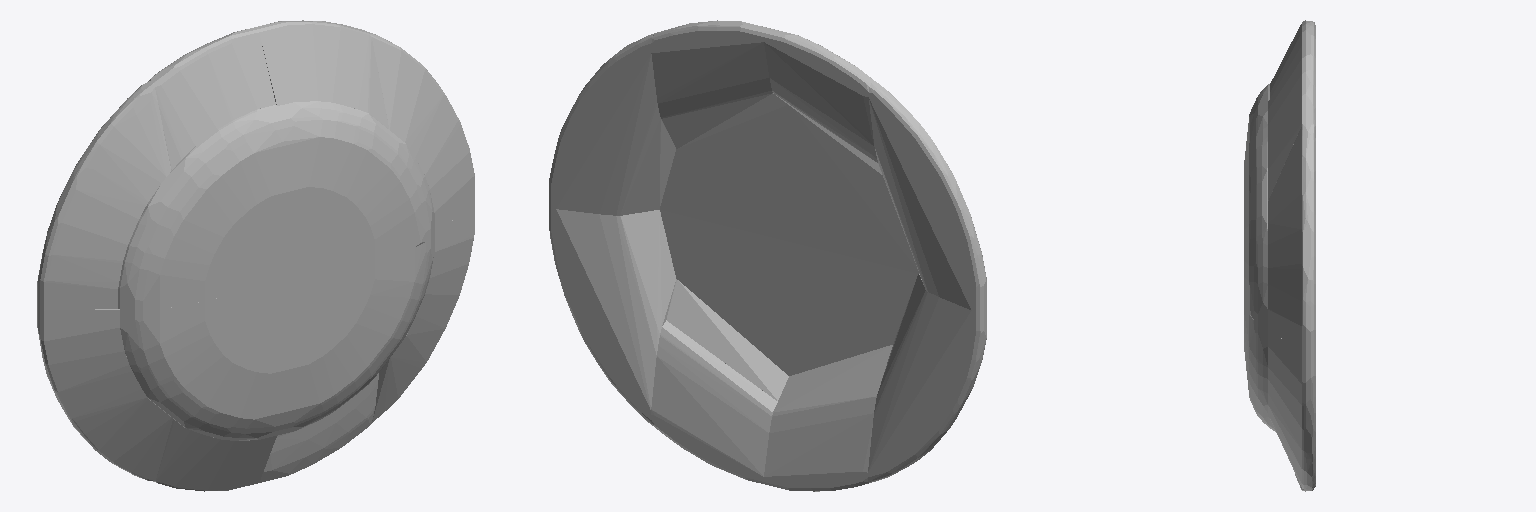
URDF robot description (root):
<robot name="root">
  <link name="link_coacd_convex_piece_0">
    <inertial>
      <origin xyz="0 0 0" rpy="0 0 0"/>
      <inertia ixx="2.80E-03" ixy="-2.40E-06" ixz="8.39E-07" iyy="2.80E-03" iyz="6.03E-04" izz="5.15E-03"/>
    </inertial>
    <visual>
      <origin xyz="0 0 0" rpy="0 0 0"/>
      <geometry>
        <mesh filename="coacd_convex_piece_0.obj" scale="1.0000E+00 1.0000E+00 1.0000E+00"/>
      </geometry>
      <material name="">
        <color rgba="7.50E-01 7.50E-01 7.50E-01 1"/>
      </material>
    </visual>
    <collision>
      <origin xyz="0 0 0" rpy="0 0 0"/>
      <geometry>
        <mesh filename="coacd_convex_piece_0.obj" scale="1.0000E+00 1.0000E+00 1.0000E+00"/>
      </geometry>
    </collision>
  </link>
  <link name="link_coacd_convex_piece_1">
    <inertial>
      <origin xyz="0 0 0" rpy="0 0 0"/>
      <inertia ixx="9.99E-04" ixy="-4.38E-04" ixz="9.47E-06" iyy="2.81E-04" iyz="1.79E-05" izz="1.28E-03"/>
    </inertial>
    <visual>
      <origin xyz="0 0 0" rpy="0 0 0"/>
      <geometry>
        <mesh filename="coacd_convex_piece_1.obj" scale="1.0000E+00 1.0000E+00 1.0000E+00"/>
      </geometry>
      <material name="">
        <color rgba="7.50E-01 7.50E-01 7.50E-01 1"/>
      </material>
    </visual>
    <collision>
      <origin xyz="0 0 0" rpy="0 0 0"/>
      <geometry>
        <mesh filename="coacd_convex_piece_1.obj" scale="1.0000E+00 1.0000E+00 1.0000E+00"/>
      </geometry>
    </collision>
  </link>
  <joint name="link_coacd_convex_piece_1_joint" type="fixed">
    <origin xyz="0 0 0" rpy="0 0 0"/>
    <parent link="link_coacd_convex_piece_0"/>
    <child link="link_coacd_convex_piece_1"/>
  </joint>
  <link name="link_coacd_convex_piece_2">
    <inertial>
      <origin xyz="0 0 0" rpy="0 0 0"/>
      <inertia ixx="3.07E-03" ixy="-7.25E-05" ixz="-1.22E-05" iyy="3.03E-03" iyz="-6.31E-04" izz="5.63E-03"/>
    </inertial>
    <visual>
      <origin xyz="0 0 0" rpy="0 0 0"/>
      <geometry>
        <mesh filename="coacd_convex_piece_2.obj" scale="1.0000E+00 1.0000E+00 1.0000E+00"/>
      </geometry>
      <material name="">
        <color rgba="7.50E-01 7.50E-01 7.50E-01 1"/>
      </material>
    </visual>
    <collision>
      <origin xyz="0 0 0" rpy="0 0 0"/>
      <geometry>
        <mesh filename="coacd_convex_piece_2.obj" scale="1.0000E+00 1.0000E+00 1.0000E+00"/>
      </geometry>
    </collision>
  </link>
  <joint name="link_coacd_convex_piece_2_joint" type="fixed">
    <origin xyz="0 0 0" rpy="0 0 0"/>
    <parent link="link_coacd_convex_piece_1"/>
    <child link="link_coacd_convex_piece_2"/>
  </joint>
  <link name="link_coacd_convex_piece_3">
    <inertial>
      <origin xyz="0 0 0" rpy="0 0 0"/>
      <inertia ixx="3.32E-03" ixy="-1.09E-03" ixz="-1.28E-04" iyy="5.62E-04" iyz="-3.73E-04" izz="3.79E-03"/>
    </inertial>
    <visual>
      <origin xyz="0 0 0" rpy="0 0 0"/>
      <geometry>
        <mesh filename="coacd_convex_piece_3.obj" scale="1.0000E+00 1.0000E+00 1.0000E+00"/>
      </geometry>
      <material name="">
        <color rgba="7.50E-01 7.50E-01 7.50E-01 1"/>
      </material>
    </visual>
    <collision>
      <origin xyz="0 0 0" rpy="0 0 0"/>
      <geometry>
        <mesh filename="coacd_convex_piece_3.obj" scale="1.0000E+00 1.0000E+00 1.0000E+00"/>
      </geometry>
    </collision>
  </link>
  <joint name="link_coacd_convex_piece_3_joint" type="fixed">
    <origin xyz="0 0 0" rpy="0 0 0"/>
    <parent link="link_coacd_convex_piece_2"/>
    <child link="link_coacd_convex_piece_3"/>
  </joint>
  <link name="link_coacd_convex_piece_4">
    <inertial>
      <origin xyz="0 0 0" rpy="0 0 0"/>
      <inertia ixx="1.81E-03" ixy="-2.59E-03" ixz="-5.48E-04" iyy="5.92E-03" iyz="-2.82E-04" izz="7.58E-03"/>
    </inertial>
    <visual>
      <origin xyz="0 0 0" rpy="0 0 0"/>
      <geometry>
        <mesh filename="coacd_convex_piece_4.obj" scale="1.0000E+00 1.0000E+00 1.0000E+00"/>
      </geometry>
      <material name="">
        <color rgba="7.50E-01 7.50E-01 7.50E-01 1"/>
      </material>
    </visual>
    <collision>
      <origin xyz="0 0 0" rpy="0 0 0"/>
      <geometry>
        <mesh filename="coacd_convex_piece_4.obj" scale="1.0000E+00 1.0000E+00 1.0000E+00"/>
      </geometry>
    </collision>
  </link>
  <joint name="link_coacd_convex_piece_4_joint" type="fixed">
    <origin xyz="0 0 0" rpy="0 0 0"/>
    <parent link="link_coacd_convex_piece_3"/>
    <child link="link_coacd_convex_piece_4"/>
  </joint>
  <link name="link_coacd_convex_piece_5">
    <inertial>
      <origin xyz="0 0 0" rpy="0 0 0"/>
      <inertia ixx="4.63E-03" ixy="1.48E-03" ixz="1.02E-04" iyy="7.28E-04" iyz="-3.37E-04" izz="5.27E-03"/>
    </inertial>
    <visual>
      <origin xyz="0 0 0" rpy="0 0 0"/>
      <geometry>
        <mesh filename="coacd_convex_piece_5.obj" scale="1.0000E+00 1.0000E+00 1.0000E+00"/>
      </geometry>
      <material name="">
        <color rgba="7.50E-01 7.50E-01 7.50E-01 1"/>
      </material>
    </visual>
    <collision>
      <origin xyz="0 0 0" rpy="0 0 0"/>
      <geometry>
        <mesh filename="coacd_convex_piece_5.obj" scale="1.0000E+00 1.0000E+00 1.0000E+00"/>
      </geometry>
    </collision>
  </link>
  <joint name="link_coacd_convex_piece_5_joint" type="fixed">
    <origin xyz="0 0 0" rpy="0 0 0"/>
    <parent link="link_coacd_convex_piece_4"/>
    <child link="link_coacd_convex_piece_5"/>
  </joint>
  <link name="link_coacd_convex_piece_6">
    <inertial>
      <origin xyz="0 0 0" rpy="0 0 0"/>
      <inertia ixx="2.15E-03" ixy="2.87E-03" ixz="5.78E-04" iyy="6.21E-03" iyz="-3.16E-04" izz="8.19E-03"/>
    </inertial>
    <visual>
      <origin xyz="0 0 0" rpy="0 0 0"/>
      <geometry>
        <mesh filename="coacd_convex_piece_6.obj" scale="1.0000E+00 1.0000E+00 1.0000E+00"/>
      </geometry>
      <material name="">
        <color rgba="7.50E-01 7.50E-01 7.50E-01 1"/>
      </material>
    </visual>
    <collision>
      <origin xyz="0 0 0" rpy="0 0 0"/>
      <geometry>
        <mesh filename="coacd_convex_piece_6.obj" scale="1.0000E+00 1.0000E+00 1.0000E+00"/>
      </geometry>
    </collision>
  </link>
  <joint name="link_coacd_convex_piece_6_joint" type="fixed">
    <origin xyz="0 0 0" rpy="0 0 0"/>
    <parent link="link_coacd_convex_piece_5"/>
    <child link="link_coacd_convex_piece_6"/>
  </joint>
  <link name="link_coacd_convex_piece_7">
    <inertial>
      <origin xyz="0 0 0" rpy="0 0 0"/>
      <inertia ixx="1.83E-03" ixy="2.59E-03" ixz="-5.52E-04" iyy="5.94E-03" iyz="2.84E-04" izz="7.61E-03"/>
    </inertial>
    <visual>
      <origin xyz="0 0 0" rpy="0 0 0"/>
      <geometry>
        <mesh filename="coacd_convex_piece_7.obj" scale="1.0000E+00 1.0000E+00 1.0000E+00"/>
      </geometry>
      <material name="">
        <color rgba="7.50E-01 7.50E-01 7.50E-01 1"/>
      </material>
    </visual>
    <collision>
      <origin xyz="0 0 0" rpy="0 0 0"/>
      <geometry>
        <mesh filename="coacd_convex_piece_7.obj" scale="1.0000E+00 1.0000E+00 1.0000E+00"/>
      </geometry>
    </collision>
  </link>
  <joint name="link_coacd_convex_piece_7_joint" type="fixed">
    <origin xyz="0 0 0" rpy="0 0 0"/>
    <parent link="link_coacd_convex_piece_6"/>
    <child link="link_coacd_convex_piece_7"/>
  </joint>
  <link name="link_coacd_convex_piece_8">
    <inertial>
      <origin xyz="0 0 0" rpy="0 0 0"/>
      <inertia ixx="5.08E-03" ixy="1.79E-03" ixz="-1.26E-04" iyy="9.83E-04" iyz="3.78E-04" izz="5.96E-03"/>
    </inertial>
    <visual>
      <origin xyz="0 0 0" rpy="0 0 0"/>
      <geometry>
        <mesh filename="coacd_convex_piece_8.obj" scale="1.0000E+00 1.0000E+00 1.0000E+00"/>
      </geometry>
      <material name="">
        <color rgba="7.50E-01 7.50E-01 7.50E-01 1"/>
      </material>
    </visual>
    <collision>
      <origin xyz="0 0 0" rpy="0 0 0"/>
      <geometry>
        <mesh filename="coacd_convex_piece_8.obj" scale="1.0000E+00 1.0000E+00 1.0000E+00"/>
      </geometry>
    </collision>
  </link>
  <joint name="link_coacd_convex_piece_8_joint" type="fixed">
    <origin xyz="0 0 0" rpy="0 0 0"/>
    <parent link="link_coacd_convex_piece_7"/>
    <child link="link_coacd_convex_piece_8"/>
  </joint>
  <link name="link_coacd_convex_piece_9">
    <inertial>
      <origin xyz="0 0 0" rpy="0 0 0"/>
      <inertia ixx="4.42E-03" ixy="-1.41E-03" ixz="1.06E-04" iyy="6.91E-04" iyz="3.44E-04" izz="5.02E-03"/>
    </inertial>
    <visual>
      <origin xyz="0 0 0" rpy="0 0 0"/>
      <geometry>
        <mesh filename="coacd_convex_piece_9.obj" scale="1.0000E+00 1.0000E+00 1.0000E+00"/>
      </geometry>
      <material name="">
        <color rgba="7.50E-01 7.50E-01 7.50E-01 1"/>
      </material>
    </visual>
    <collision>
      <origin xyz="0 0 0" rpy="0 0 0"/>
      <geometry>
        <mesh filename="coacd_convex_piece_9.obj" scale="1.0000E+00 1.0000E+00 1.0000E+00"/>
      </geometry>
    </collision>
  </link>
  <joint name="link_coacd_convex_piece_9_joint" type="fixed">
    <origin xyz="0 0 0" rpy="0 0 0"/>
    <parent link="link_coacd_convex_piece_8"/>
    <child link="link_coacd_convex_piece_9"/>
  </joint>
  <link name="link_coacd_convex_piece_10">
    <inertial>
      <origin xyz="0 0 0" rpy="0 0 0"/>
      <inertia ixx="2.06E-03" ixy="-2.75E-03" ixz="5.80E-04" iyy="5.98E-03" iyz="3.13E-04" izz="7.87E-03"/>
    </inertial>
    <visual>
      <origin xyz="0 0 0" rpy="0 0 0"/>
      <geometry>
        <mesh filename="coacd_convex_piece_10.obj" scale="1.0000E+00 1.0000E+00 1.0000E+00"/>
      </geometry>
      <material name="">
        <color rgba="7.50E-01 7.50E-01 7.50E-01 1"/>
      </material>
    </visual>
    <collision>
      <origin xyz="0 0 0" rpy="0 0 0"/>
      <geometry>
        <mesh filename="coacd_convex_piece_10.obj" scale="1.0000E+00 1.0000E+00 1.0000E+00"/>
      </geometry>
    </collision>
  </link>
  <joint name="link_coacd_convex_piece_10_joint" type="fixed">
    <origin xyz="0 0 0" rpy="0 0 0"/>
    <parent link="link_coacd_convex_piece_9"/>
    <child link="link_coacd_convex_piece_10"/>
  </joint>
</robot>

--- What the picture shows (computed from the rendered views, not written in the file) ---
Views: 3 orthographic renders of the robot side by side, from view 1: azimuth 30°, elevation 25°; view 2: azimuth 150°, elevation 25°; view 3: azimuth 270°, elevation 25°.
Robot: root — 11 links, 10 joints (10 fixed); root link link_coacd_convex_piece_0; default pose: every joint at zero.
Links seen in each view (by area): view 1: link_coacd_convex_piece_2, link_coacd_convex_piece_0, link_coacd_convex_piece_10, link_coacd_convex_piece_6, link_coacd_convex_piece_9, link_coacd_convex_piece_7, link_coacd_convex_piece_8, link_coacd_convex_piece_4, link_coacd_convex_piece_5, link_coacd_convex_piece_3; view 2: link_coacd_convex_piece_2, link_coacd_convex_piece_0, link_coacd_convex_piece_4, link_coacd_convex_piece_7, link_coacd_convex_piece_6, link_coacd_convex_piece_10, link_coacd_convex_piece_5, link_coacd_convex_piece_3, link_coacd_convex_piece_8, link_coacd_convex_piece_9, link_coacd_convex_piece_1; view 3: link_coacd_convex_piece_7, link_coacd_convex_piece_4, link_coacd_convex_piece_2, link_coacd_convex_piece_8, link_coacd_convex_piece_0, link_coacd_convex_piece_9.
Boxes of the visible links, <box> form: link_coacd_convex_piece_2: <box>118,101,434,310</box>; link_coacd_convex_piece_0: <box>120,233,434,440</box>; link_coacd_convex_piece_10: <box>37,81,170,310</box>; link_coacd_convex_piece_6: <box>37,306,172,481</box>; link_coacd_convex_piece_9: <box>149,27,275,170</box>; link_coacd_convex_piece_7: <box>368,32,474,231</box>; link_coacd_convex_piece_8: <box>255,20,388,128</box>; link_coacd_convex_piece_4: <box>372,205,474,422</box>; link_coacd_convex_piece_5: <box>154,419,276,491</box>; link_coacd_convex_piece_3: <box>259,373,378,482</box>; link_coacd_convex_piece_2: <box>660,105,918,273</box>; link_coacd_convex_piece_0: <box>660,210,917,375</box>; link_coacd_convex_piece_4: <box>549,207,675,425</box>; link_coacd_convex_piece_7: <box>549,33,675,215</box>; link_coacd_convex_piece_6: <box>868,274,986,482</box>; link_coacd_convex_piece_10: <box>869,81,986,311</box>; link_coacd_convex_piece_5: <box>764,345,892,491</box>; link_coacd_convex_piece_3: <box>651,320,777,483</box>; link_coacd_convex_piece_8: <box>651,20,787,148</box>; link_coacd_convex_piece_9: <box>764,28,881,174</box>; link_coacd_convex_piece_1: <box>667,279,788,400</box>; link_coacd_convex_piece_7: <box>1268,124,1315,354</box>; link_coacd_convex_piece_4: <box>1268,328,1315,489</box>; link_coacd_convex_piece_2: <box>1244,84,1269,327</box>; link_coacd_convex_piece_8: <box>1268,43,1315,200</box>; link_coacd_convex_piece_0: <box>1244,296,1267,425</box>; link_coacd_convex_piece_9: <box>1270,20,1315,97</box>.
Size in the robot's own frame: 1.95 by 0.2963 by 1.95 metres.
11 mesh visuals loaded from 11 distinct referenced files (11 OBJ).
